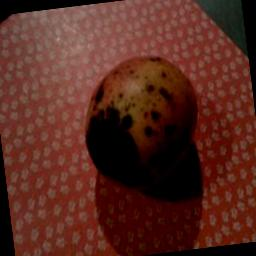Mango Rotten: (70, 48, 222, 202)
